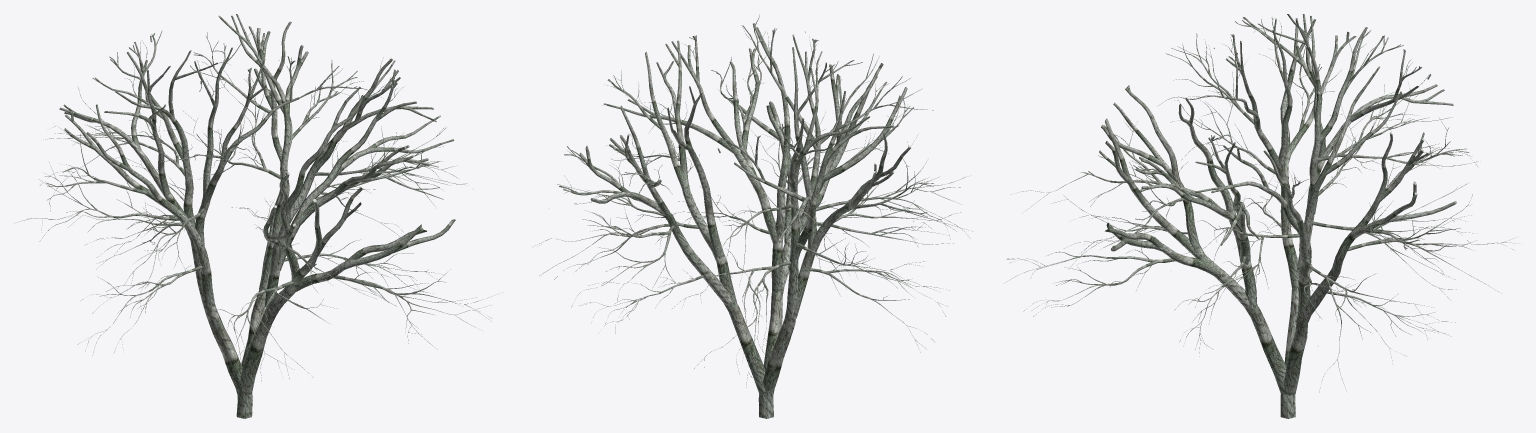
File: tree_2.glb
3 views of the same model, side by side, from view 1: azimuth 30°, elevation 25°; view 2: azimuth 150°, elevation 25°; view 3: azimuth 270°, elevation 25° (orthographic). The views are drawn at different scales.
Visible parts, largest first — view 1: tree; view 2: tree; view 3: tree.
Boxes of the visible parts, x1=… form: tree: x1=14, y1=14, x2=493, y2=418; tree: x1=535, y1=14, x2=972, y2=418; tree: x1=1005, y1=14, x2=1516, y2=418.
Bounding box in the file's own units: 8.13 × 7.31 × 9.15.
Materials: 1 (1 with a texture image).
